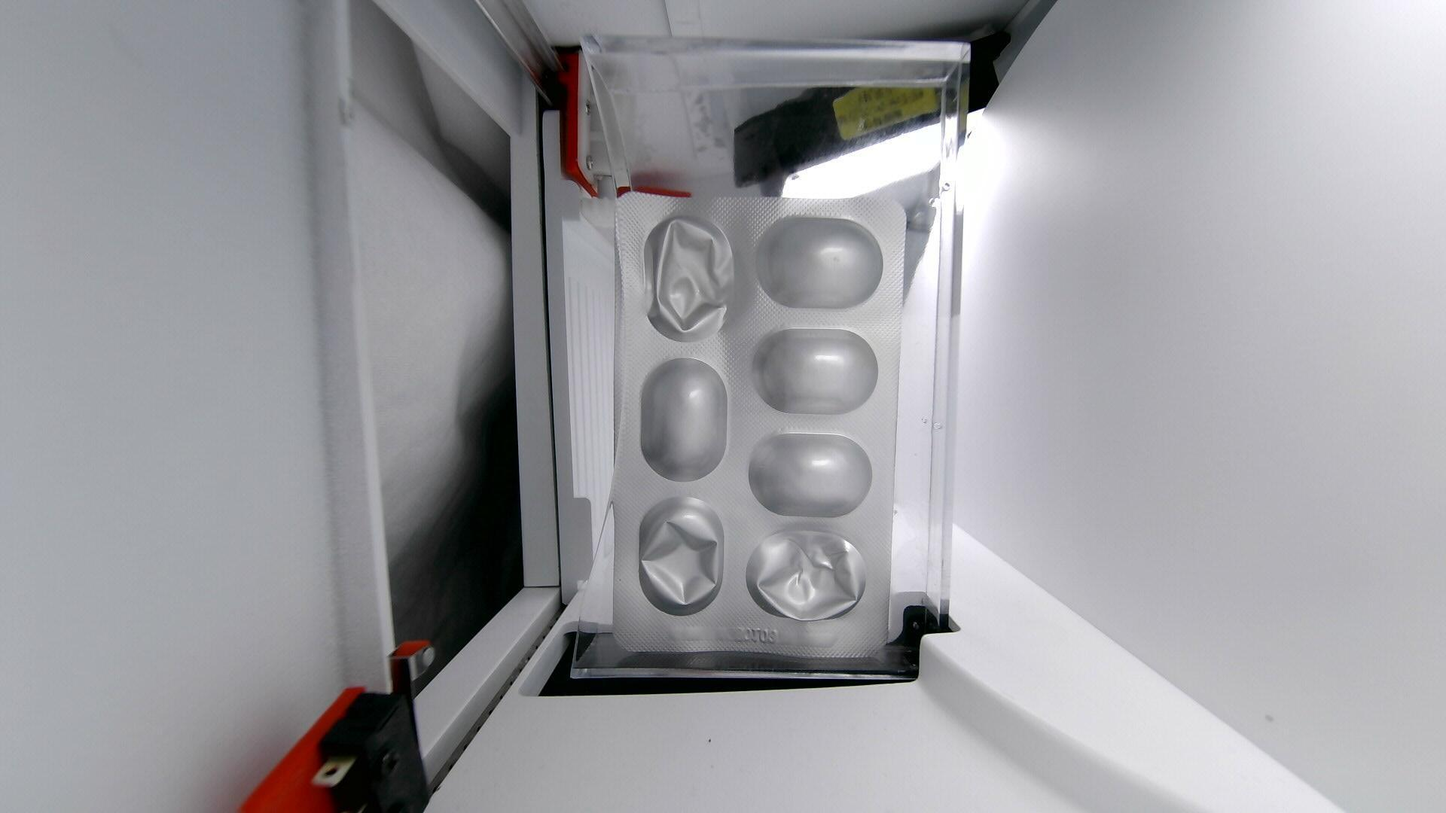Light Front: (612, 197, 905, 666)
No Pill Front: (648, 216, 734, 342), (747, 530, 865, 620), (639, 498, 722, 614)
Pill Front: (757, 217, 883, 309), (752, 330, 878, 414), (749, 433, 871, 517), (643, 360, 727, 481)
